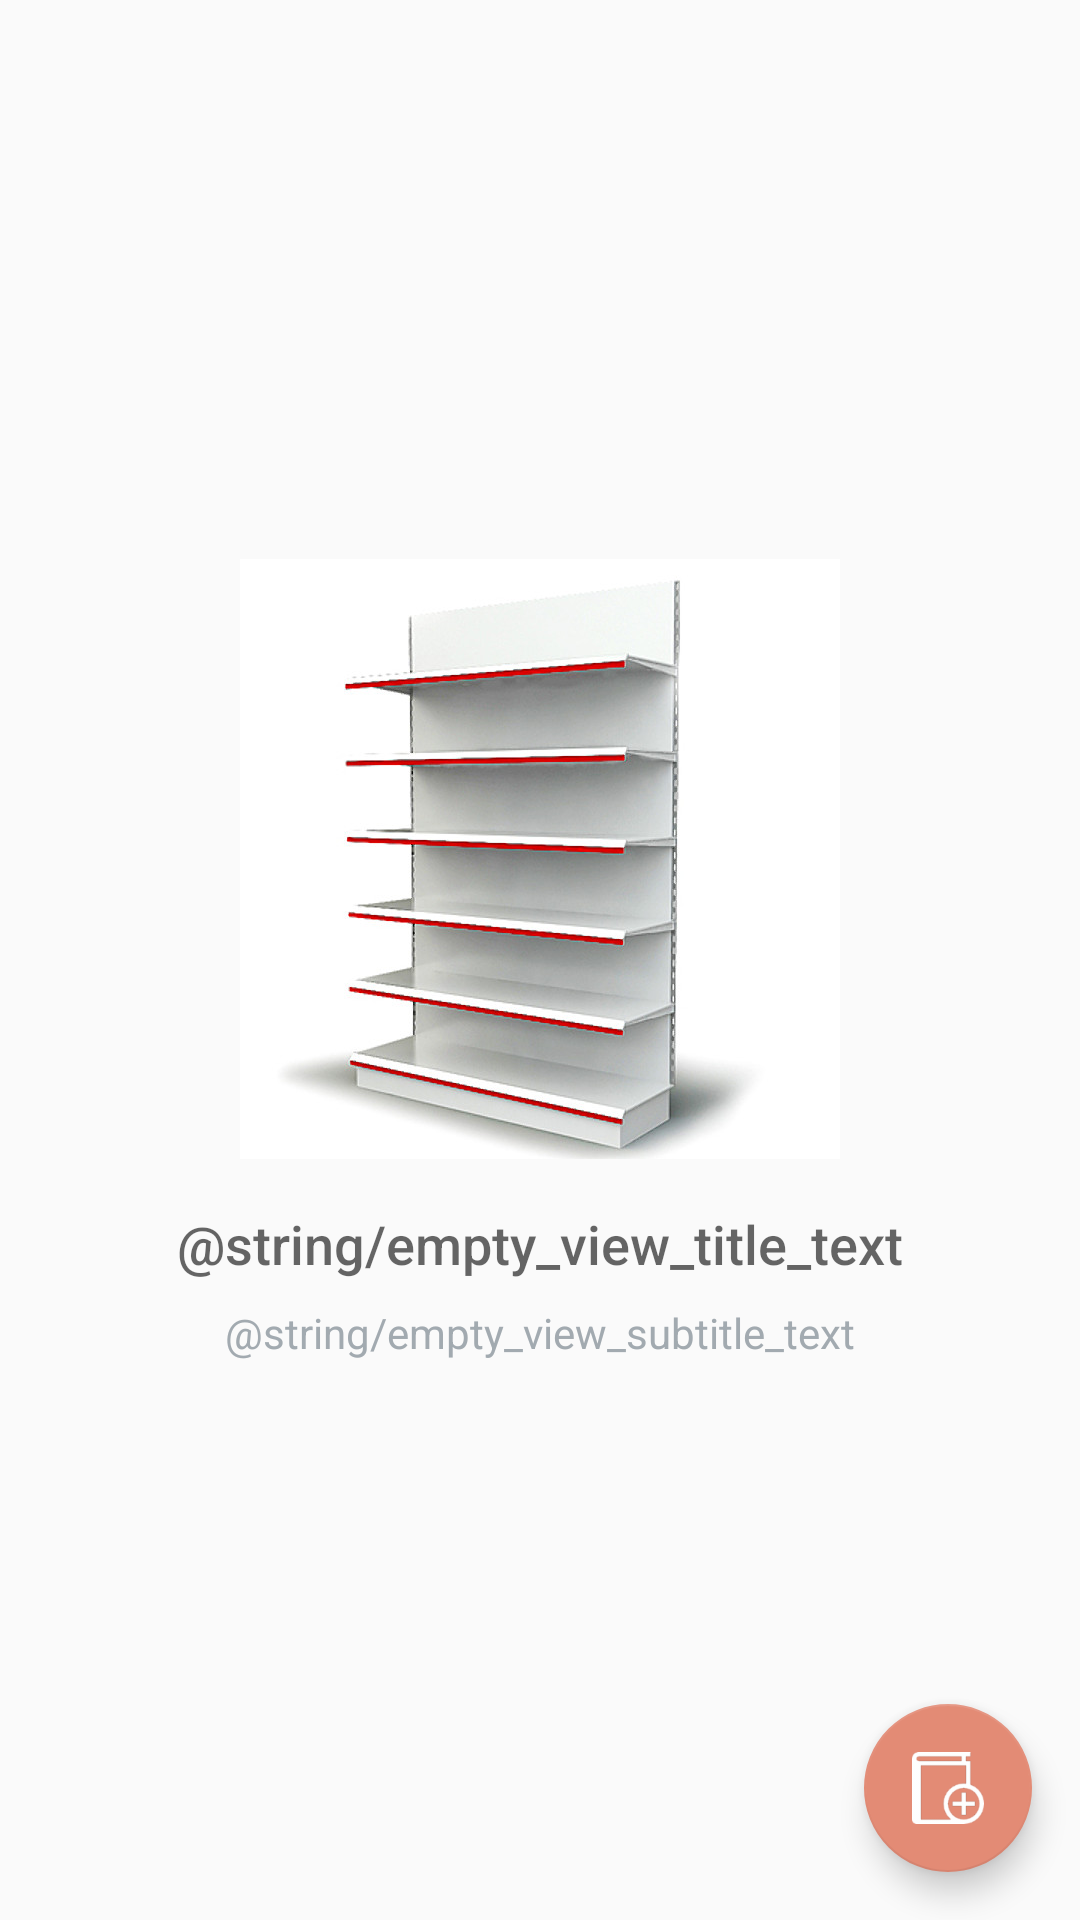

Named icons in this screenshot (1080w x 1920h) and their bounding boxes, (x1, y1, x2, y2):
add book: (864, 1704, 1032, 1872)
